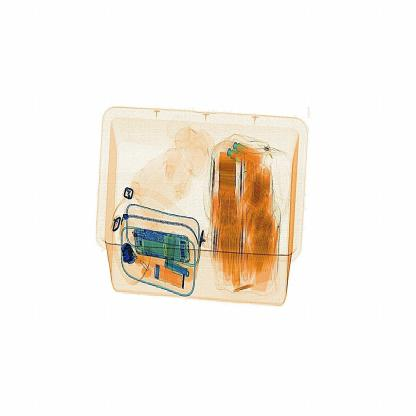scissors: (118, 234, 147, 277)
